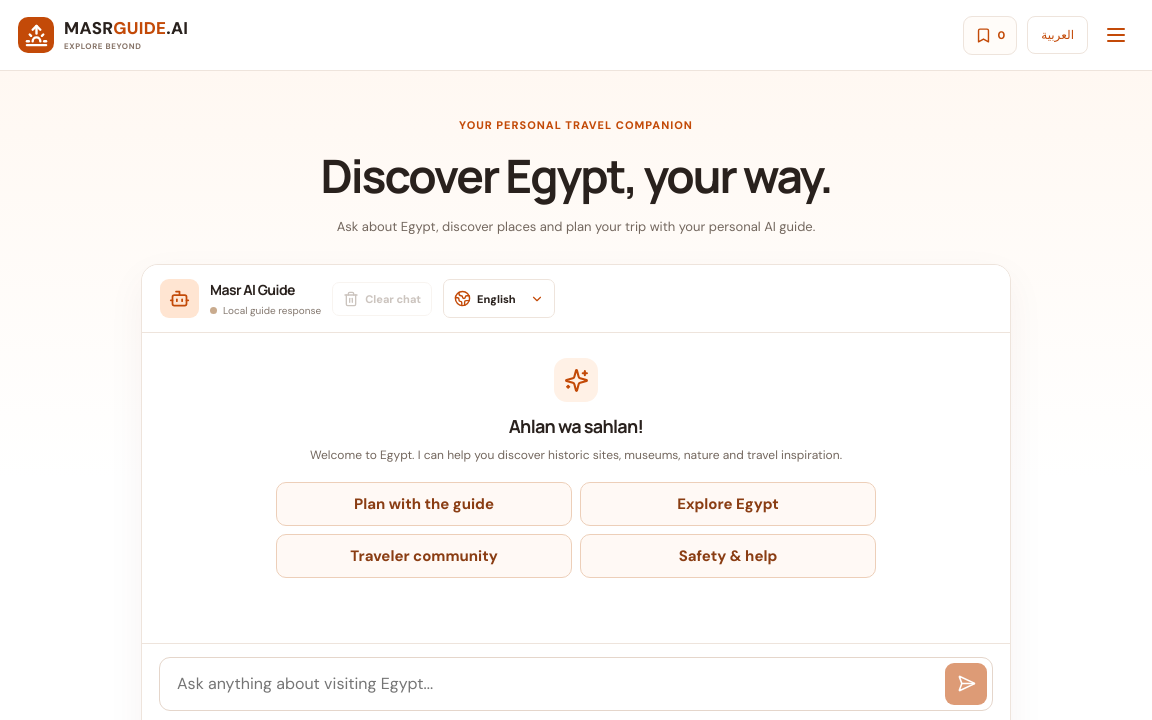
Scenario: GitHub release fixes › clears the chat when requested
In the field named "Ask the tour guide": (560, 684) x1=175 y1=663 x2=945 y2=705, type "Tell me about Karnak"
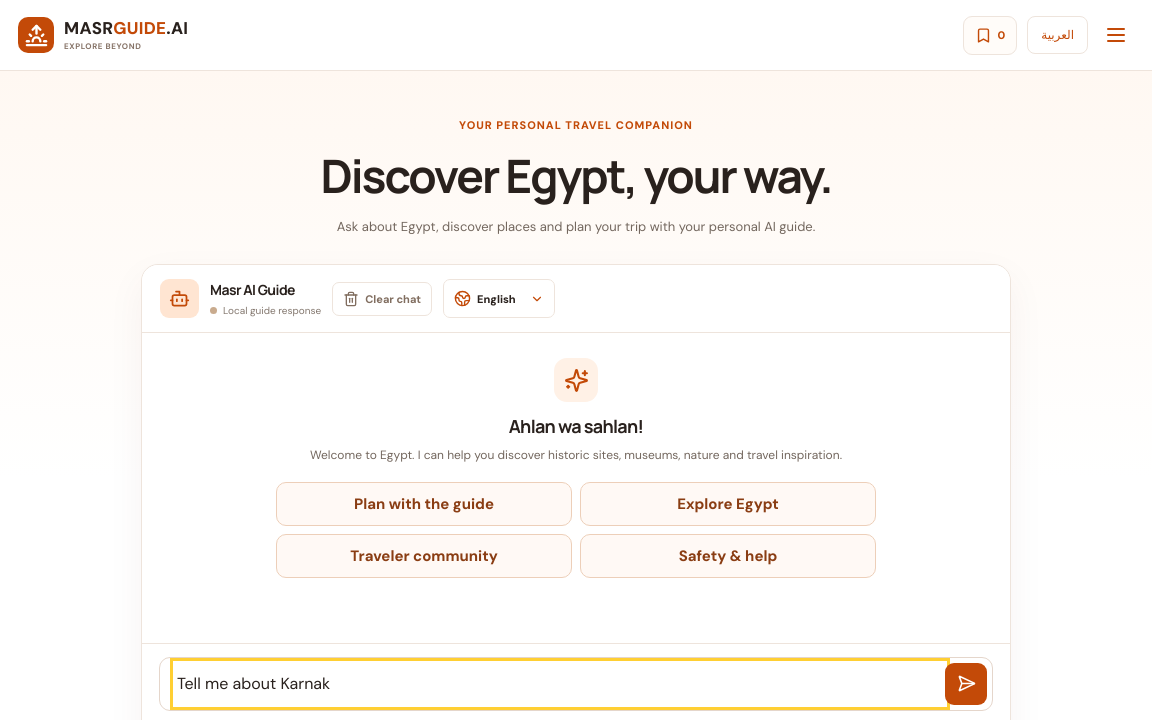
Click the button named "Send message": (966, 684) x1=945 y1=663 x2=987 y2=705
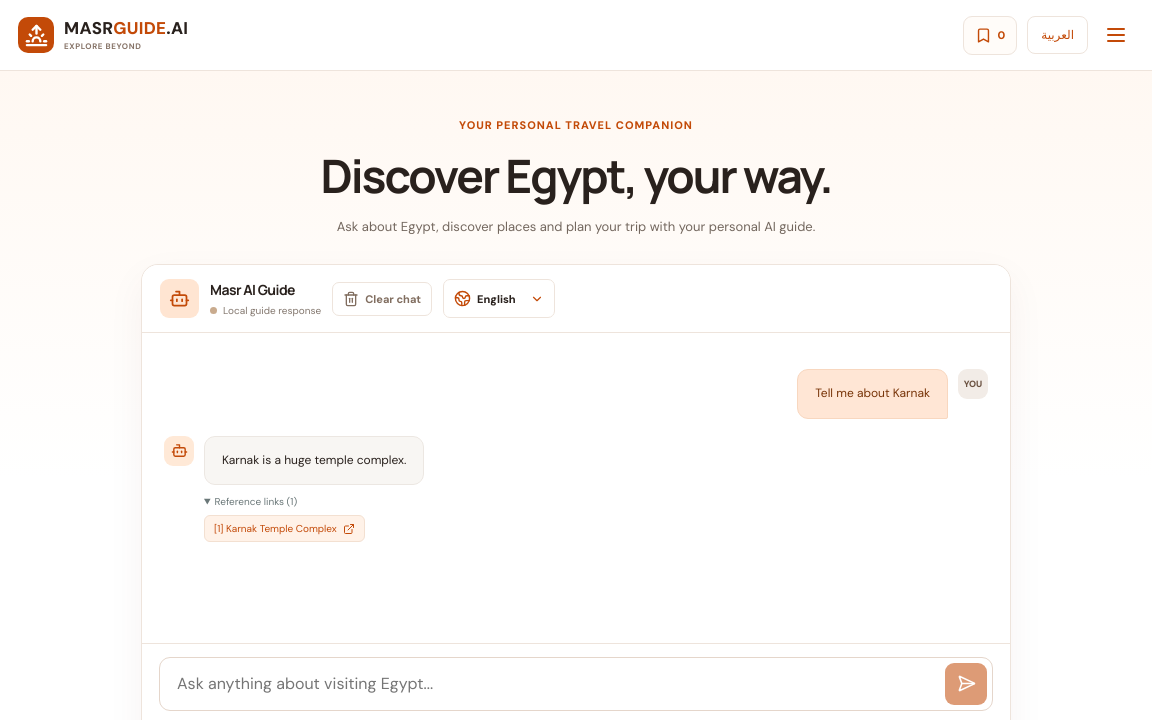
Result: the text "Karnak is a huge temple complex." is shown at x1=204 y1=436 x2=424 y2=485
Click the button "Clear chat": (382, 299) x1=332 y1=282 x2=432 y2=316
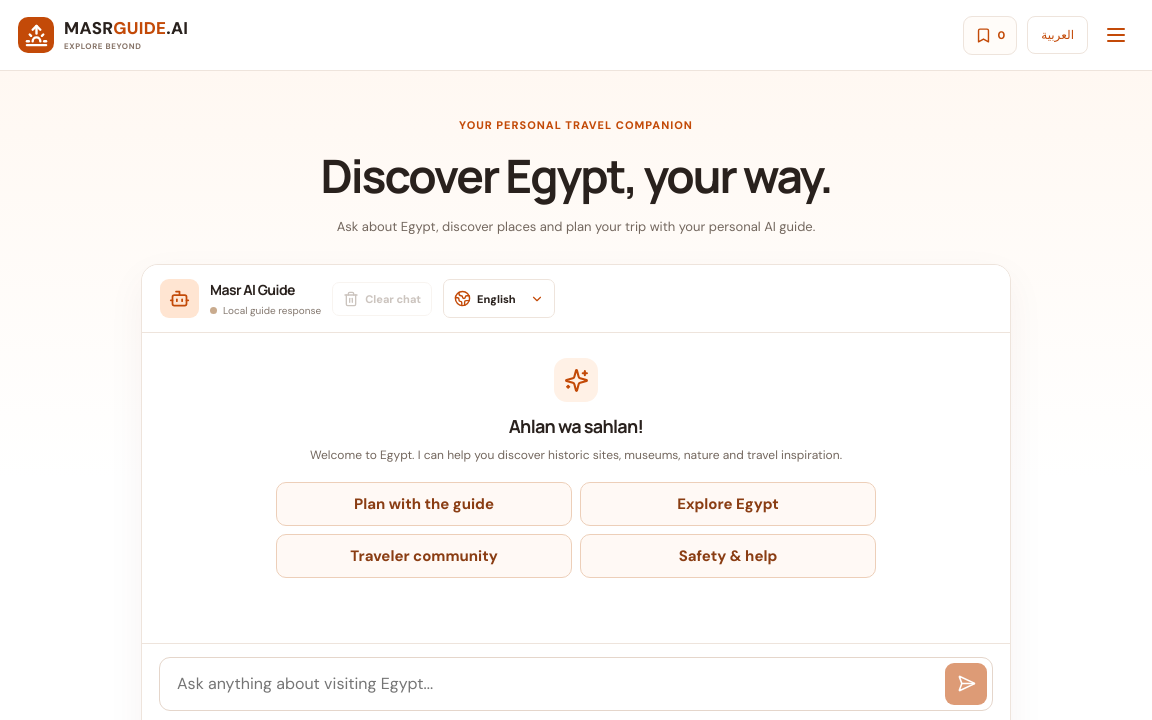
Result: the text "Karnak is a huge temple complex." is gone
